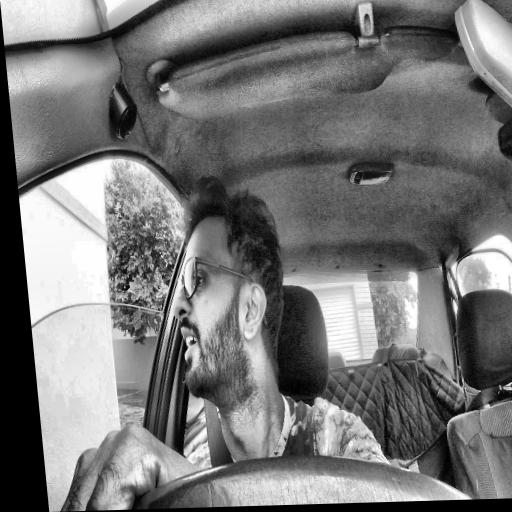awake: (160, 173, 297, 413)
